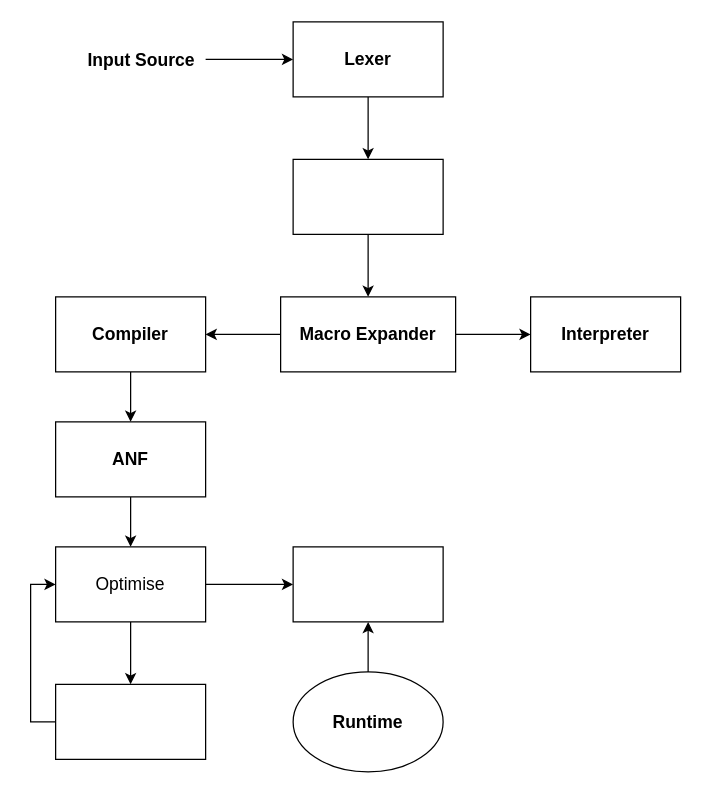
The diagram is 703 pixels wide and 794 high, and some of its shapes have lost their labels. Each missing label, with the centre of its shape:
3AC: point (130, 721)
Machine Code: point (367, 584)
Parser: point (367, 196)
